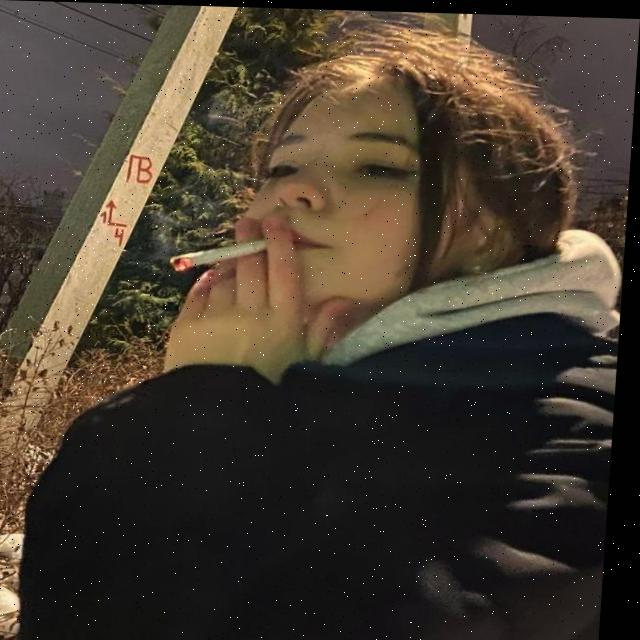cigarette: (174, 235, 274, 272)
